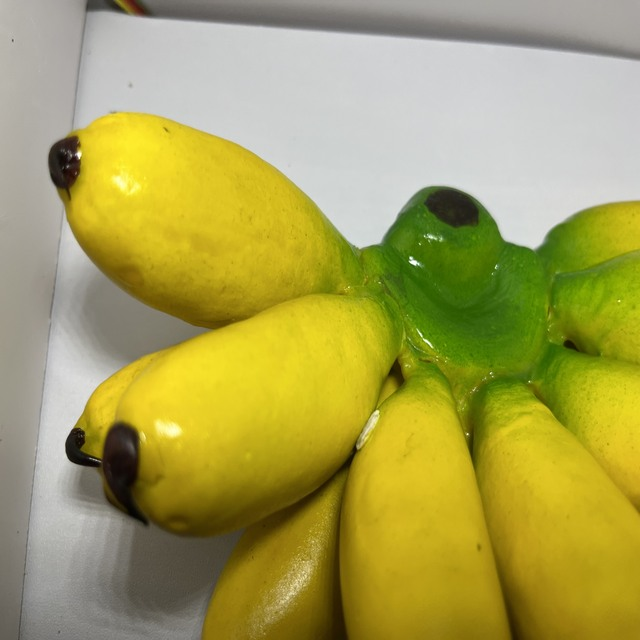Chuoi: (36, 115, 640, 640)
